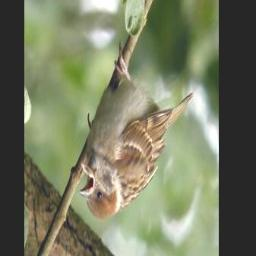Sparrow: (78, 41, 194, 223)
